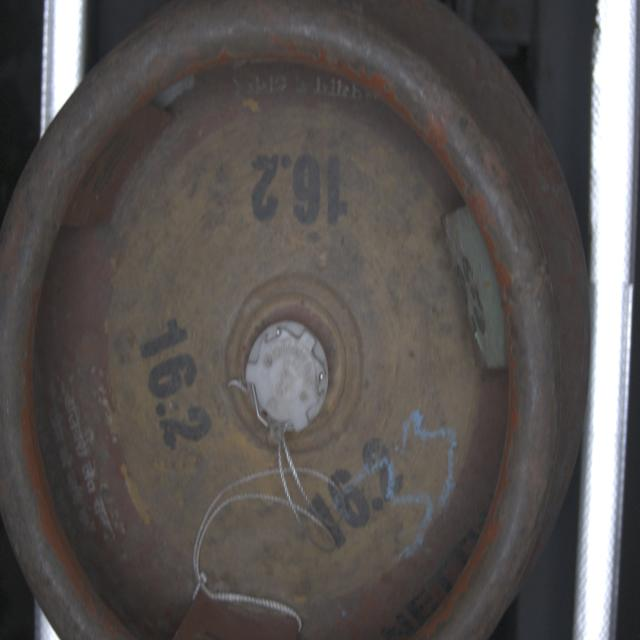Cap: (242, 315, 332, 439)
